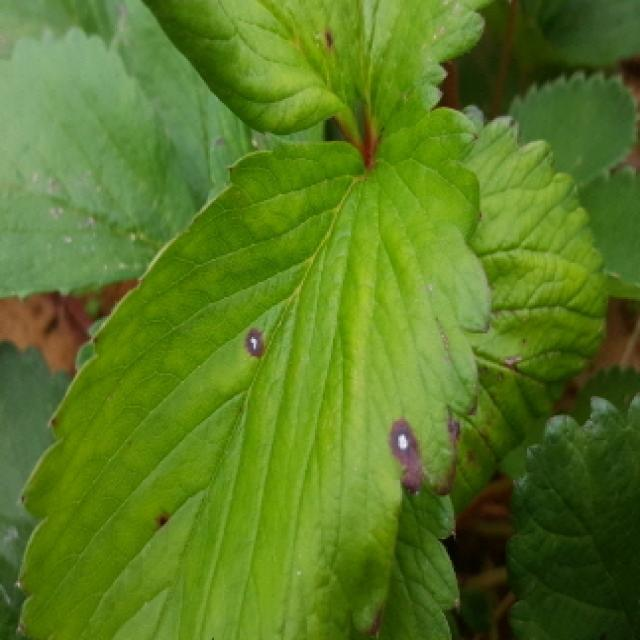Leaf Spot: (14, 107, 494, 640), (450, 106, 613, 525), (139, 0, 496, 160), (0, 337, 74, 605)
